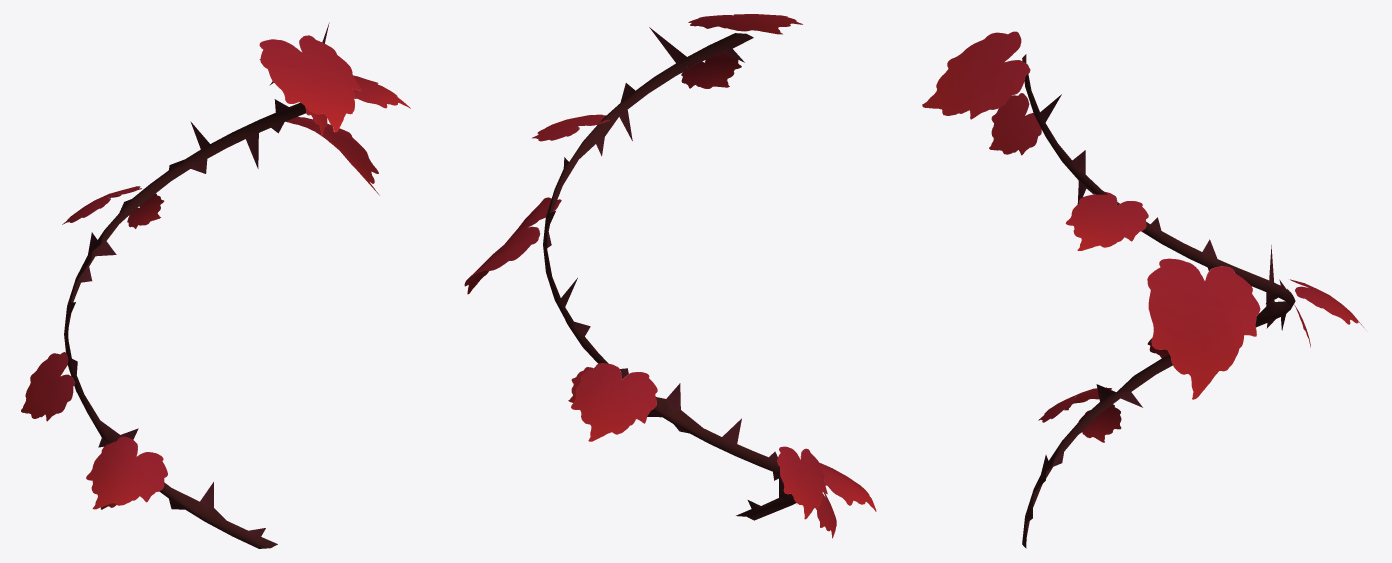
Rendered from BgMD_Field_TutaPlant.fbx.
3 renders of one model, left to right at view 1: azimuth 30°, elevation 25°; view 2: azimuth 150°, elevation 25°; view 3: azimuth 270°, elevation 25°, orthographic.
Visible parts, largest first — view 1: TutaPlant; view 2: TutaPlant; view 3: TutaPlant.
Boxes of the visible parts, bbox=[...] form: TutaPlant: bbox=[21, 22, 410, 548]; TutaPlant: bbox=[464, 14, 876, 538]; TutaPlant: bbox=[922, 31, 1365, 548].
Bounding box in the file's own units: 236 × 314 × 263.
